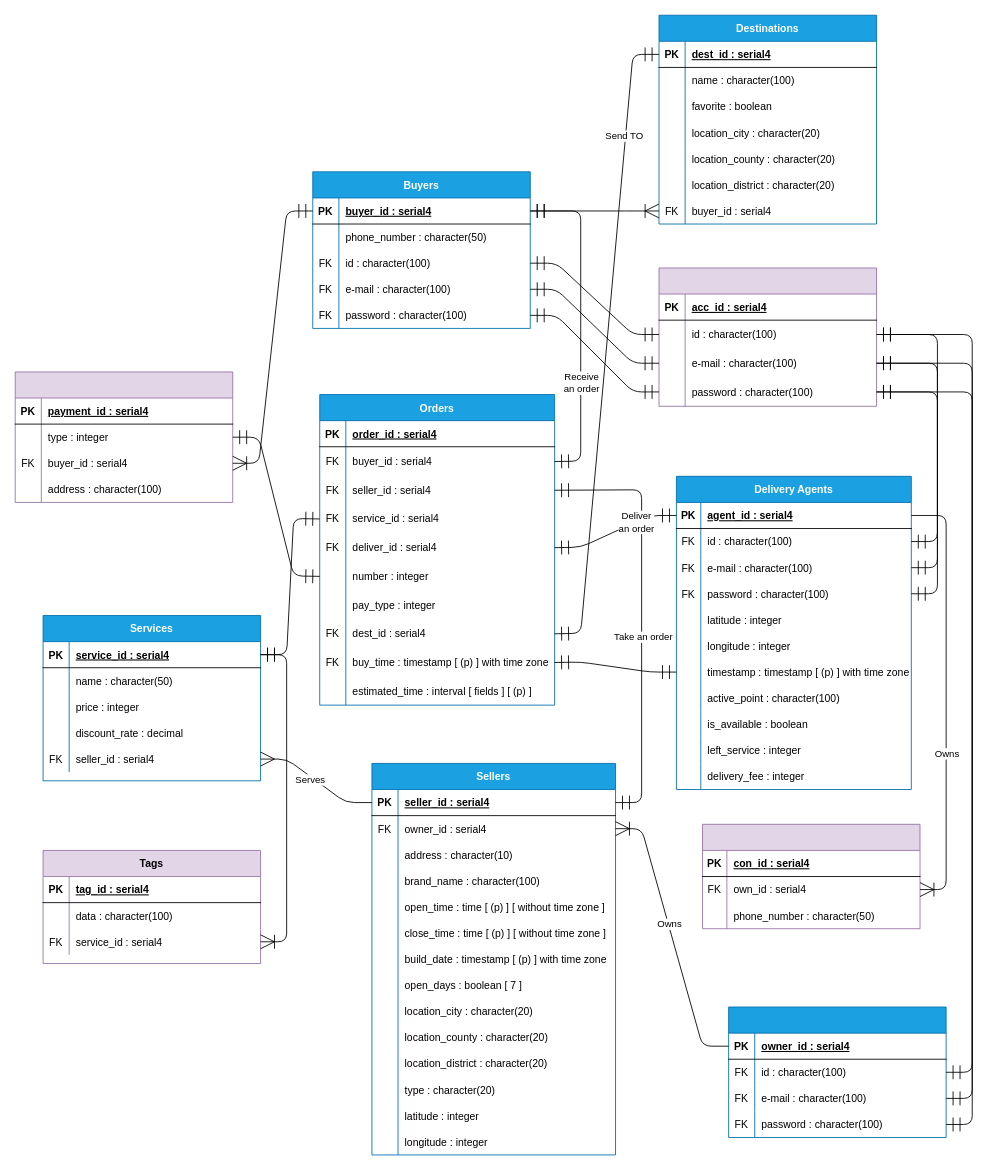
The diagram is 1002 pixels wide and 1170 high, and some of its shapes have lost their labels. The shapes that lost their labels are listed below. From the top down, each one's box as (x1, y1, x2, y2) in pixels, then its label:
(658, 267, 877, 406): Accounts
(14, 371, 233, 502): Payments
(702, 823, 920, 929): Contacts
(728, 1006, 946, 1138): Owners
